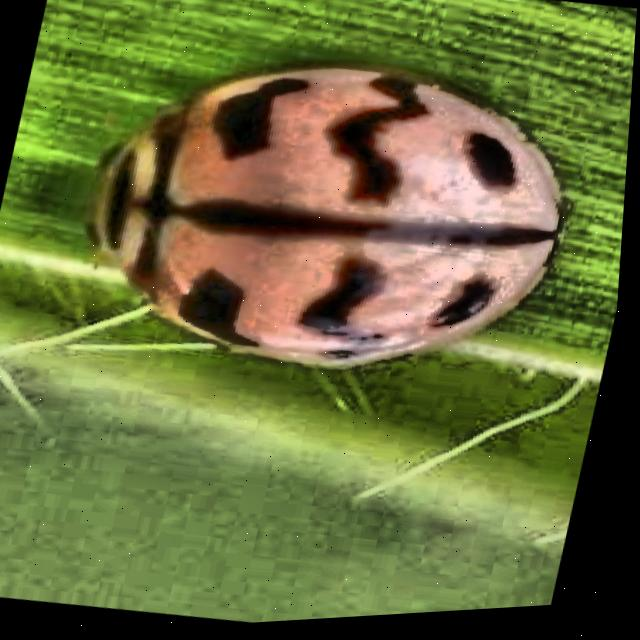Asian-Lady-beetle: (0, 0, 640, 462)
